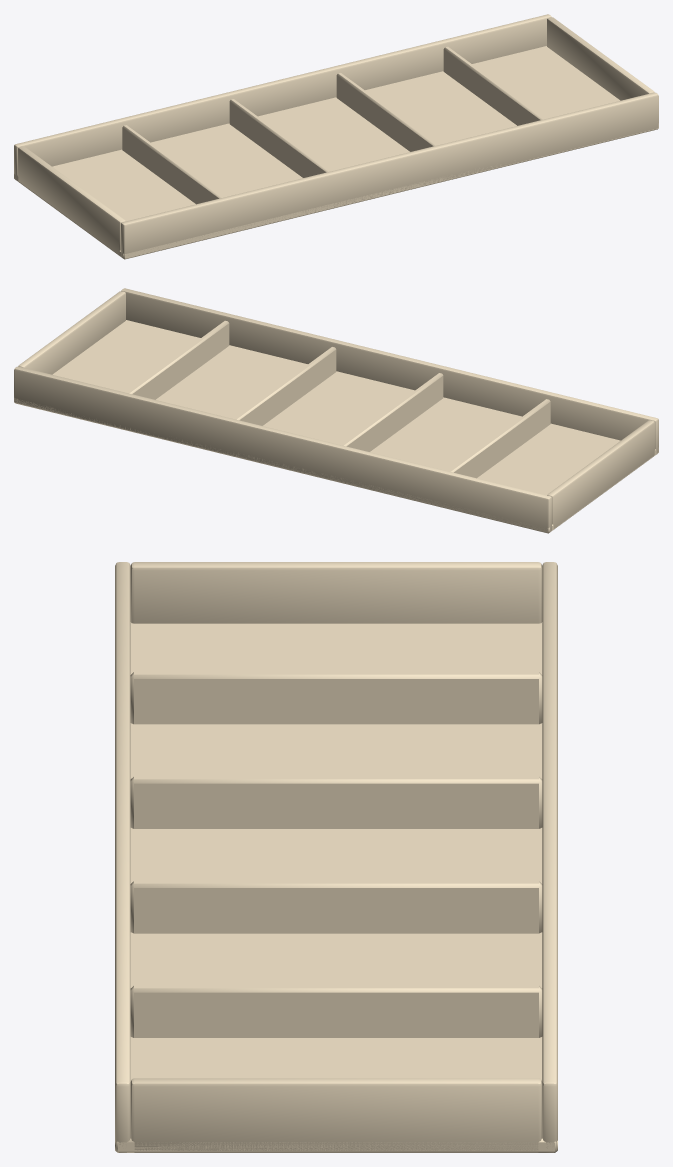
File: button_tray.glb
3 renders of one model, top to bottom at view 1: azimuth 30°, elevation 25°; view 2: azimuth 150°, elevation 25°; view 3: azimuth 270°, elevation 25°, orthographic. The views are drawn at different scales.
Visible parts, largest first — view 1: button_tray; view 2: button_tray; view 3: button_tray.
Part boxes in pixels (x1,y1,x2,y2): button_tray: (14, 14, 658, 259); button_tray: (14, 288, 658, 533); button_tray: (115, 562, 557, 1152).
Size of the model in its own units: 0.95 by 0.06 by 0.34.
